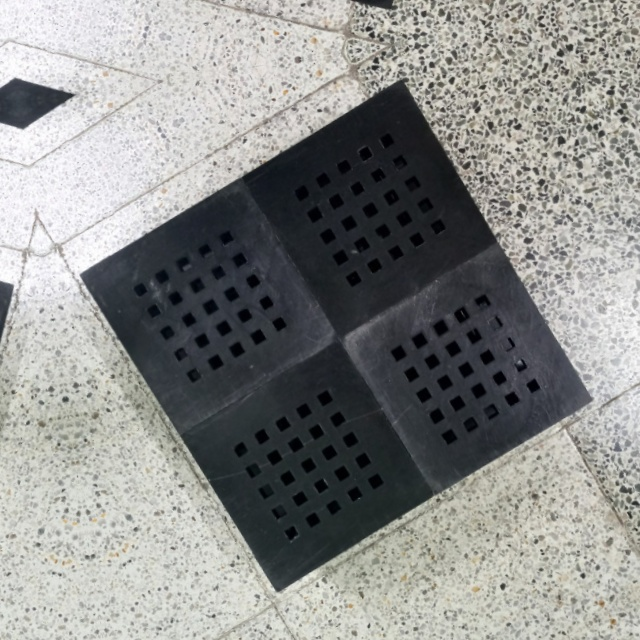pallet: (71, 70, 606, 603)
